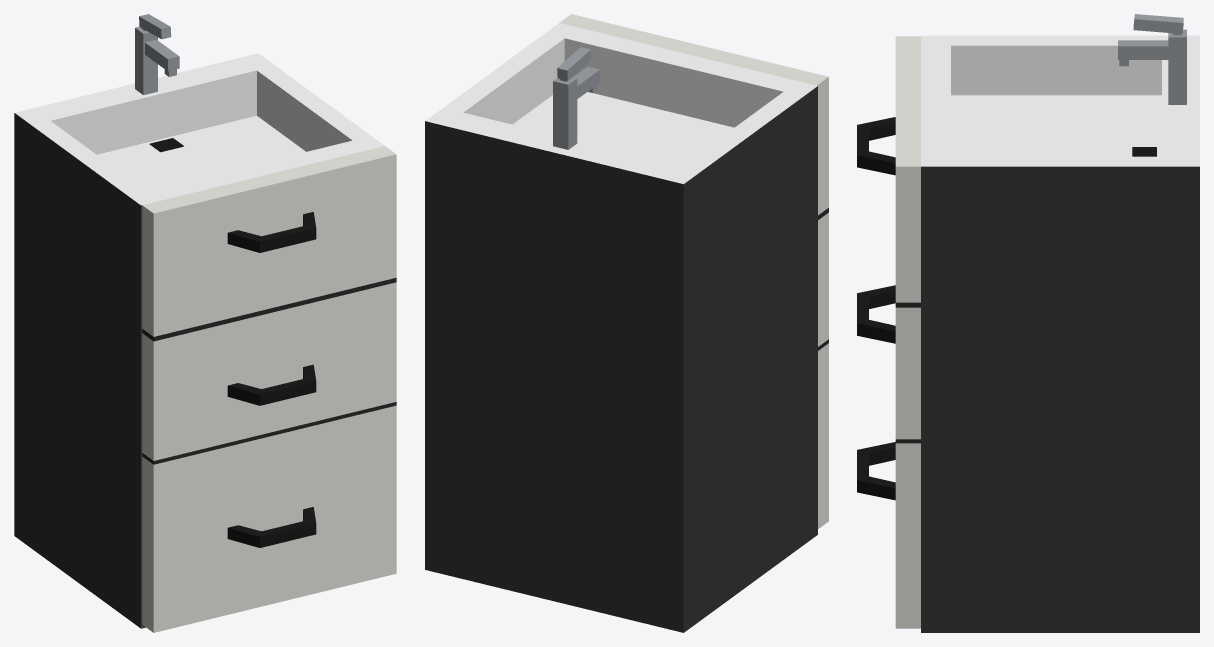
File: Bath_Wash_basin_2A.fbx
3 views of the same model, side by side, from view 1: azimuth 30°, elevation 25°; view 2: azimuth 150°, elevation 25°; view 3: azimuth 270°, elevation 25° (orthographic). The views are drawn at different scales.
Visible parts, largest first — view 1: polySurface1856; view 2: polySurface1856; view 3: polySurface1856.
Part boxes in pixels (<box>): polySurface1856: <box>14,14,396,632</box>; polySurface1856: <box>425,14,828,632</box>; polySurface1856: <box>857,14,1199,632</box>.
Bounding box in the file's own units: 0.7754 × 1.52 × 0.8565.
1 material, 1 textured.
